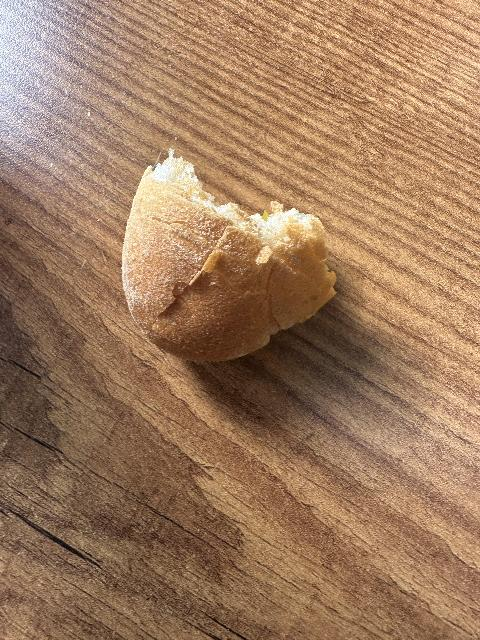Organik: (122, 149, 338, 366)
